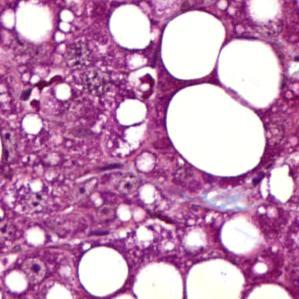steatosis: (163, 85, 269, 181), (154, 12, 226, 81), (73, 249, 132, 293)
